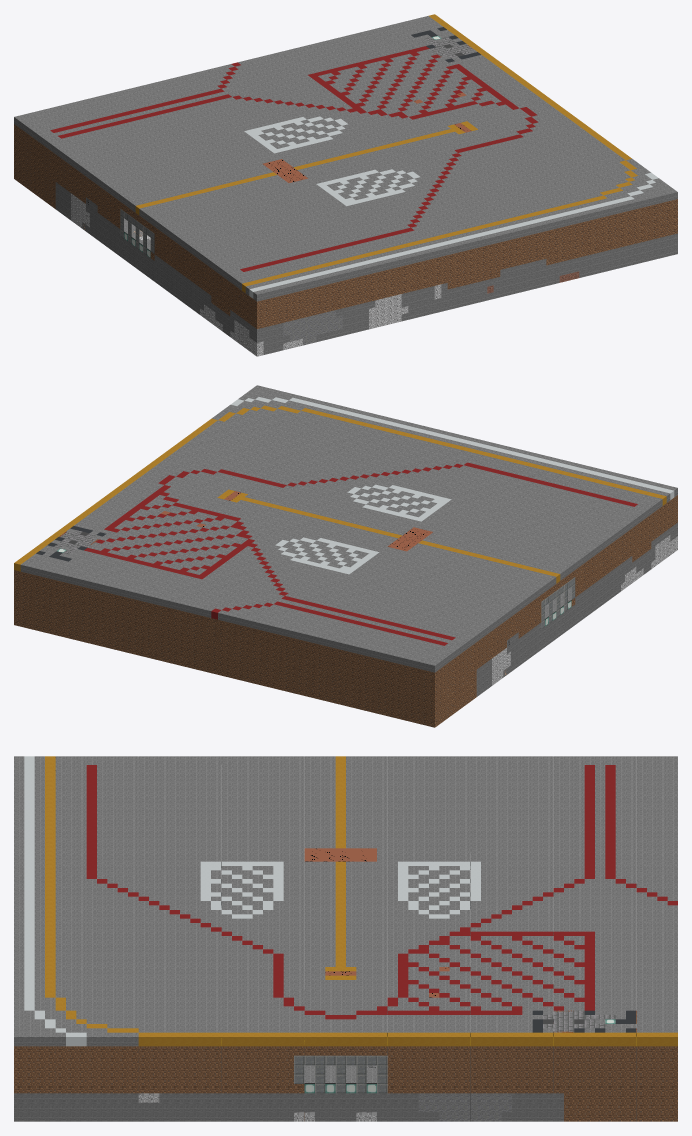
Rendered from floor.glb.
The picture shows the model from 3 angles, top to bottom: view 1: azimuth 30°, elevation 25°; view 2: azimuth 150°, elevation 25°; view 3: azimuth 270°, elevation 25°; orthographic projection. The views are drawn at different scales.
Parts seen in each view (by area): view 1: Floor; view 2: Floor; view 3: Floor.
Part boxes in pixels (left/top/right/bottom): Floor: left=14, top=14, right=677, bottom=356; Floor: left=14, top=385, right=677, bottom=727; Floor: left=14, top=756, right=677, bottom=1121.
Size of the model in its own units: 64 by 9 by 64.
1 material, 1 textured.
